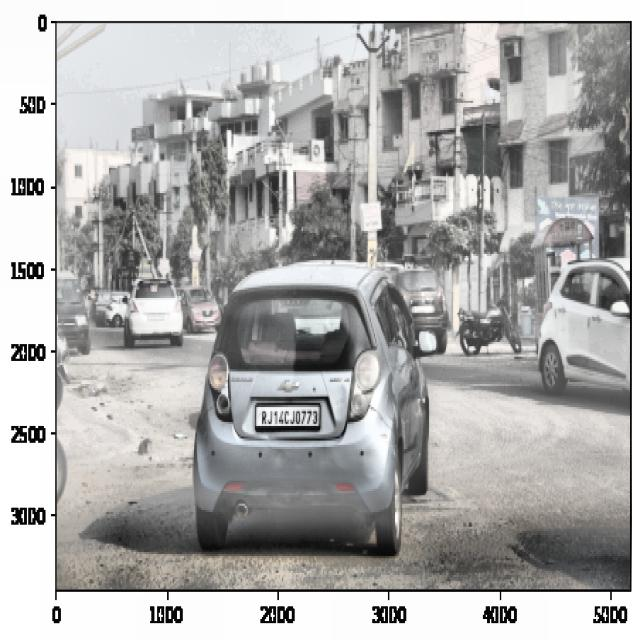license_plate: (254, 403, 322, 432)
